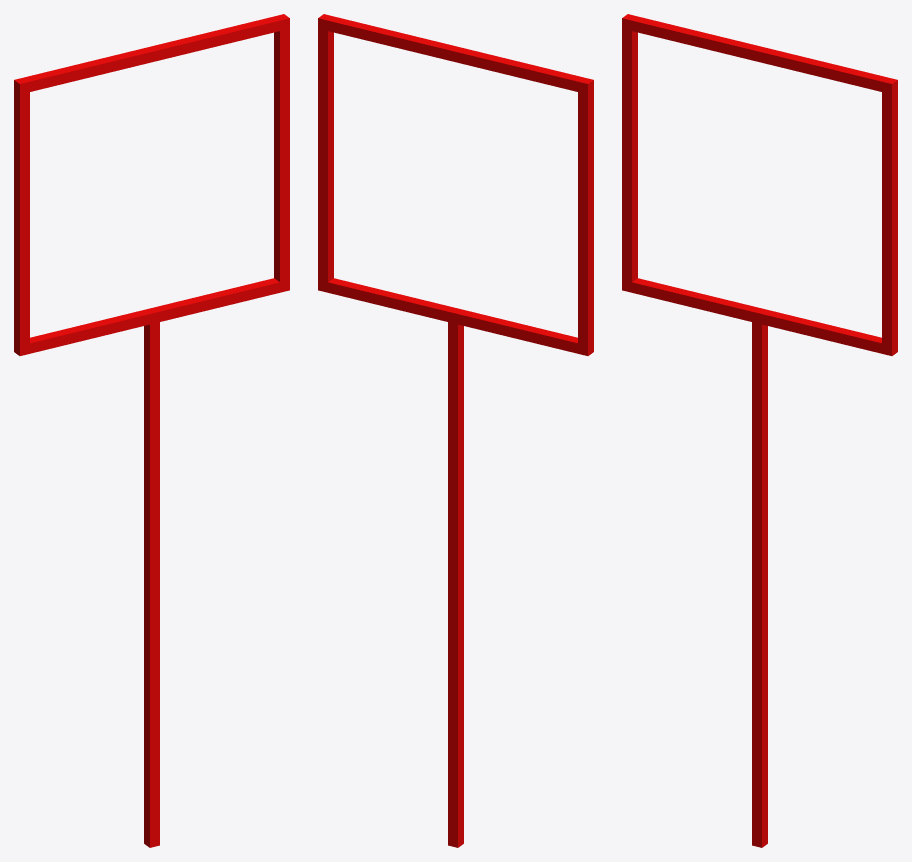
The picture shows the model from 3 angles, left to right: view 1: azimuth 30°, elevation 25°; view 2: azimuth 150°, elevation 25°; view 3: azimuth 330°, elevation 25°; orthographic projection.
Parts seen in each view (by area): view 1: group_0 (×2), group_1; view 2: group_0 (×2), group_1; view 3: group_0 (×2), group_1.
Boxes of the visible parts, left/top/right/bottom form: group_0 (×2): left=14, top=14, right=289, bottom=355; group_1: left=144, top=322, right=159, bottom=847; group_0 (×2): left=318, top=14, right=593, bottom=355; group_1: left=448, top=322, right=463, bottom=847; group_0 (×2): left=622, top=14, right=897, bottom=355; group_1: left=752, top=322, right=767, bottom=847.
Bounding box in the file's own units: 53.15 × 1.97 × 150.
